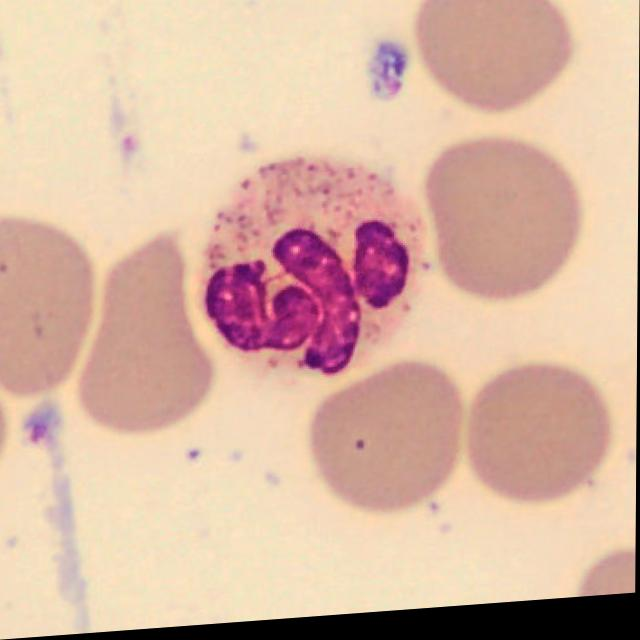Neutrofilo segmentado: (208, 164, 429, 379)
